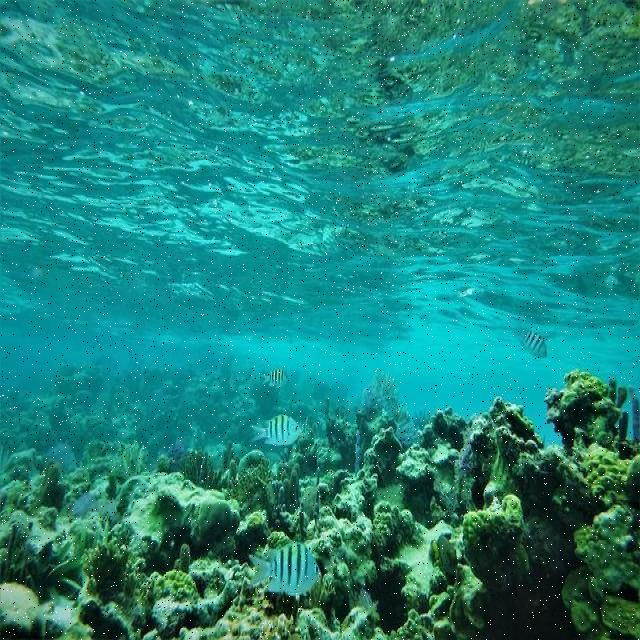fish: (249, 543, 321, 594), (250, 415, 304, 446), (516, 328, 547, 357), (259, 369, 288, 387)
